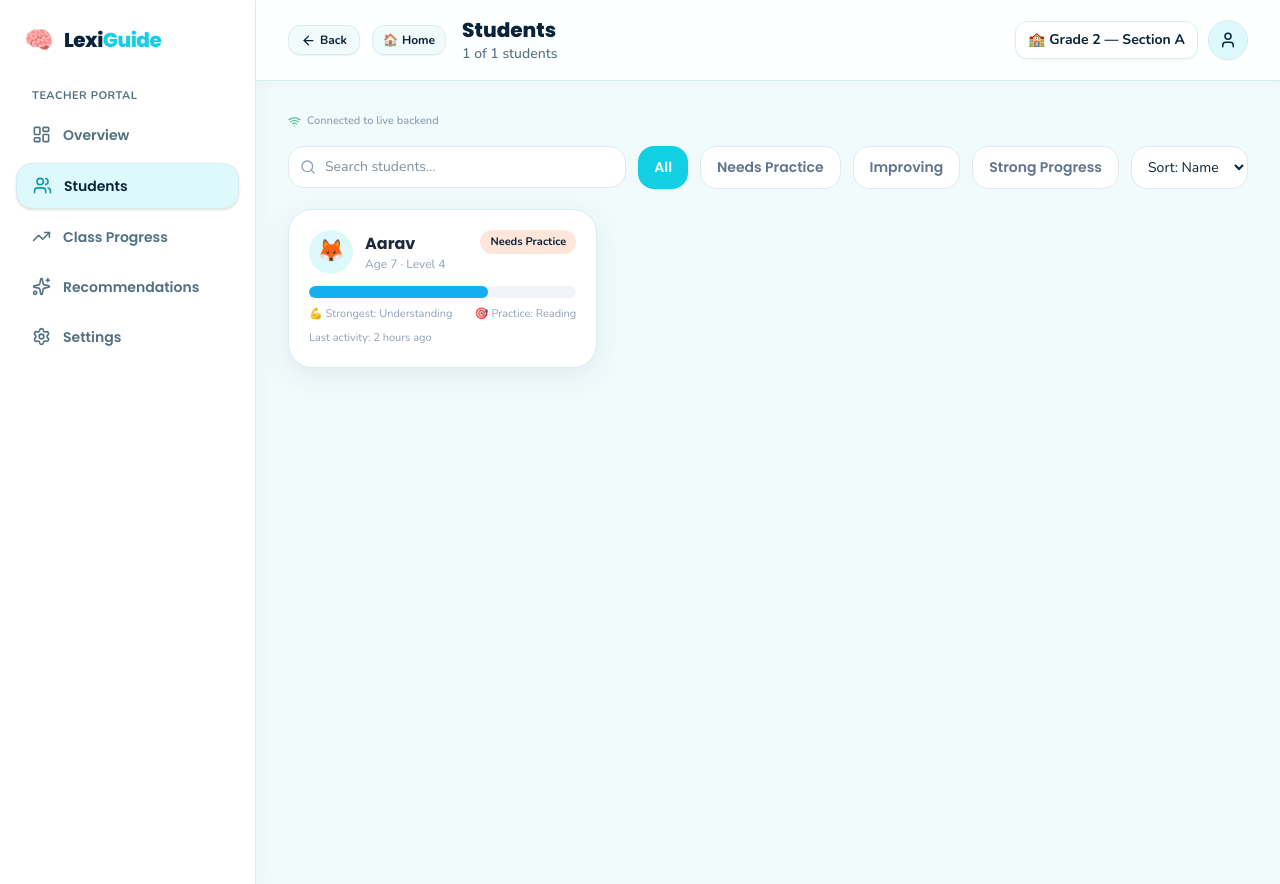
Test: Step 3: ID Harmonization Test Suite › 4. Teacher student list uses real backend IDs
Expected: the text "Connected to live backend" is shown, x1=288 y1=113 x2=439 y2=128
Expected: the text "Aarav" is shown, x1=365 y1=232 x2=415 y2=254
Click the button "Aarav". click: (443, 288)
box: x1=288 y1=208 x2=597 y2=368
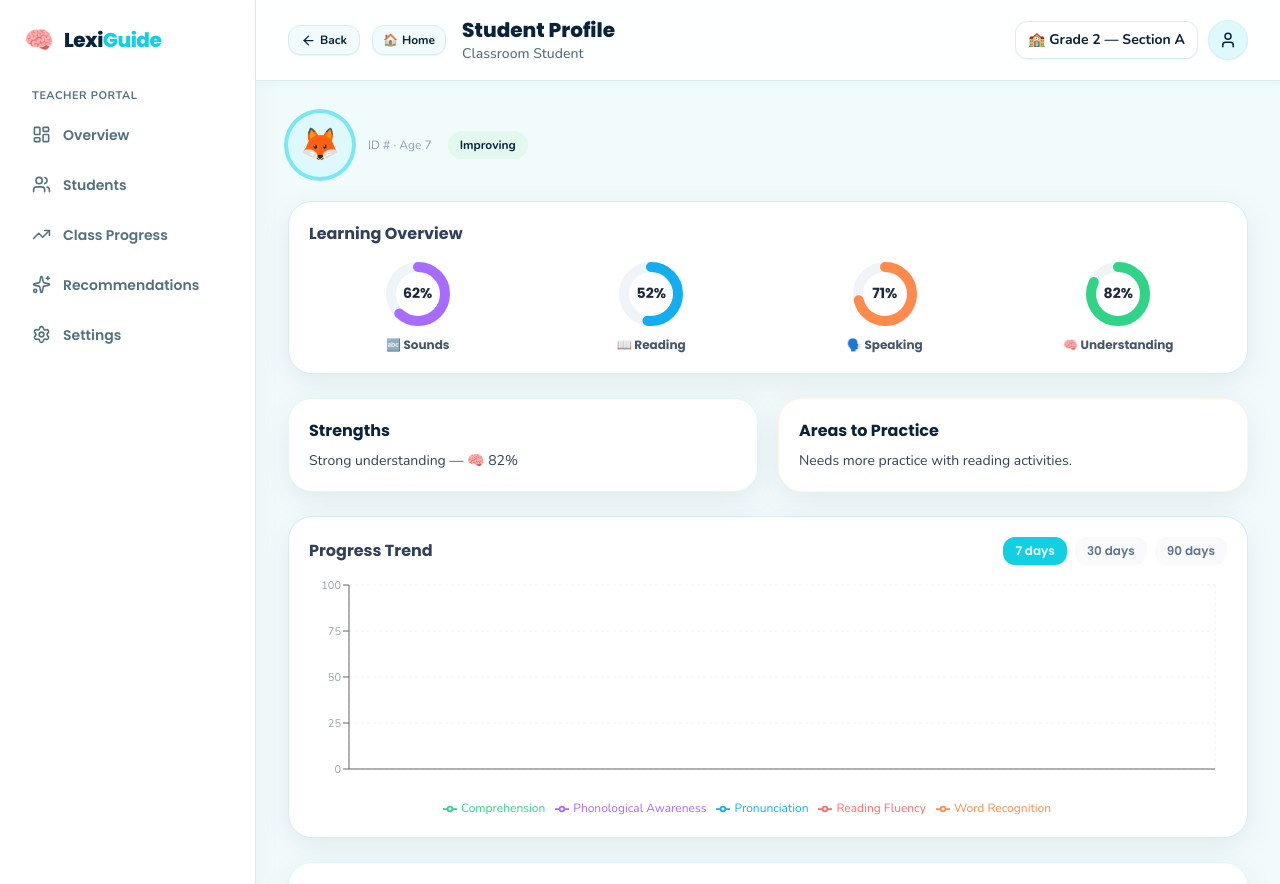
Expected: the text "Learning Overview" is shown, x1=309 y1=222 x2=462 y2=245
